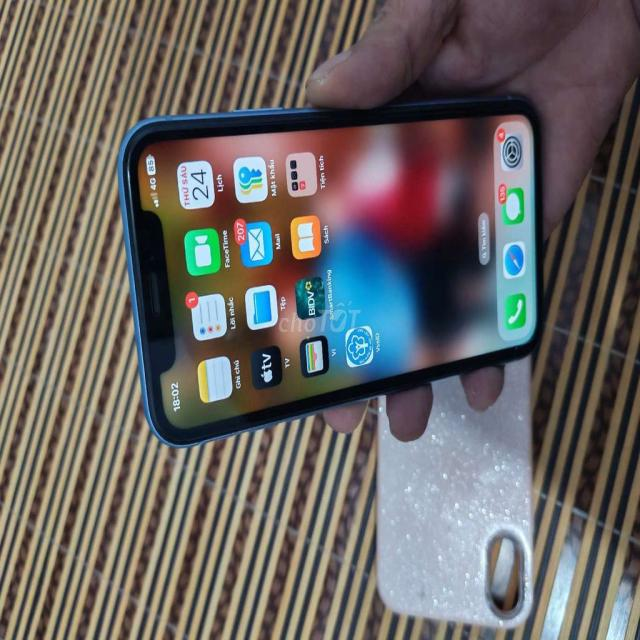gen_x_xs: (118, 98, 542, 446)
